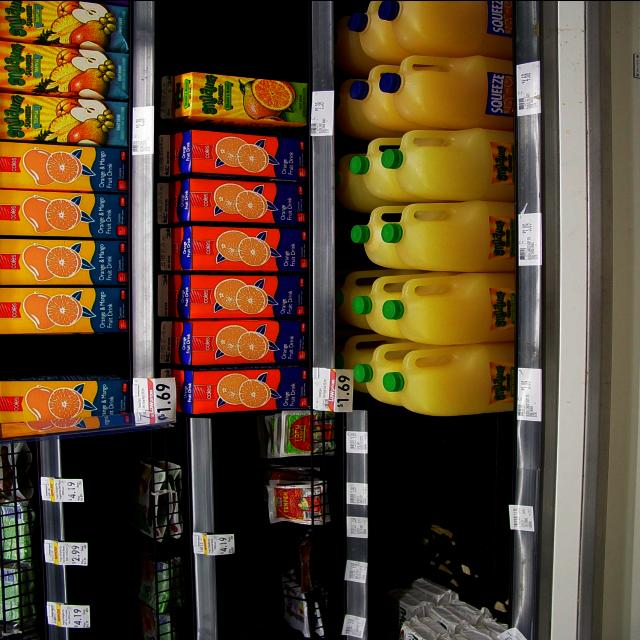empty_space: (386, 423, 511, 533), (170, 0, 300, 64), (3, 337, 119, 371)
